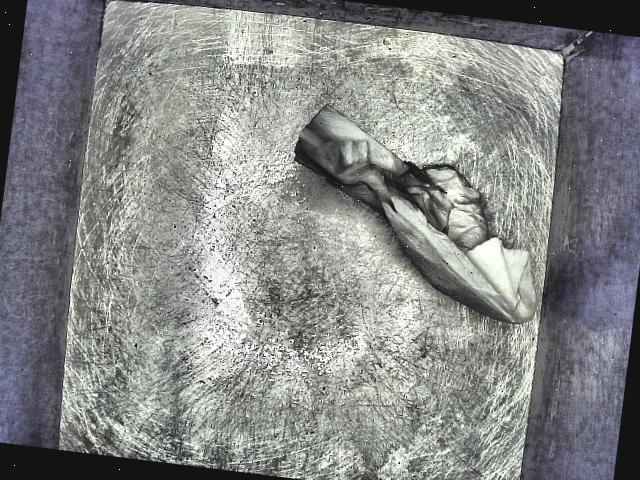Paper: (261, 96, 571, 375)
